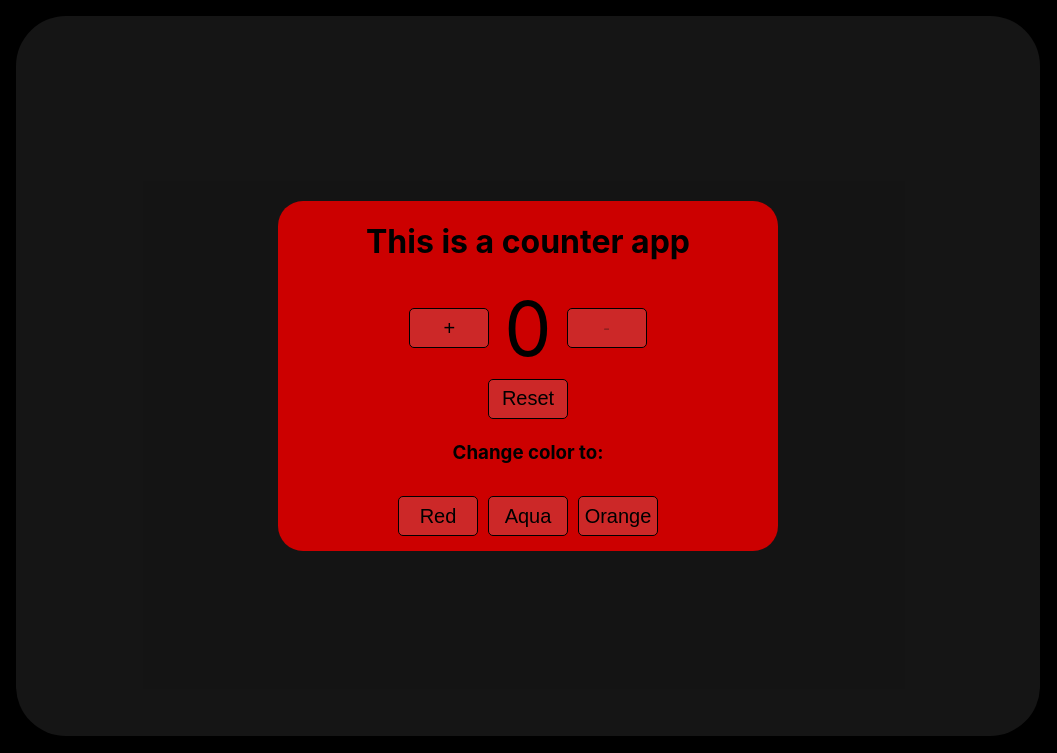
Scenario: Counter testing › render the click event of decrement button and decrement counter value
Step 1. Click the button with id "increment-btn" → (449, 328), box [409,308,489,348]
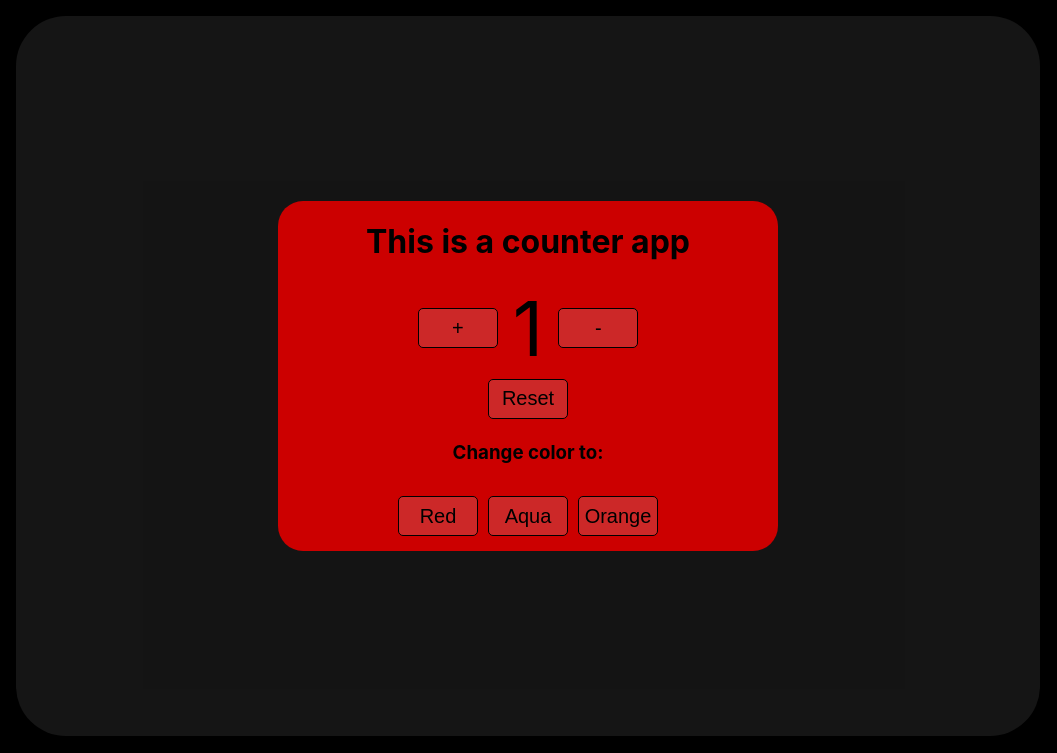
Expected: the text with id "counter-value" reads "1", [513,283,543,374]
Step 2. Click the button with id "decrement-btn" → (598, 328), box [558,308,638,348]
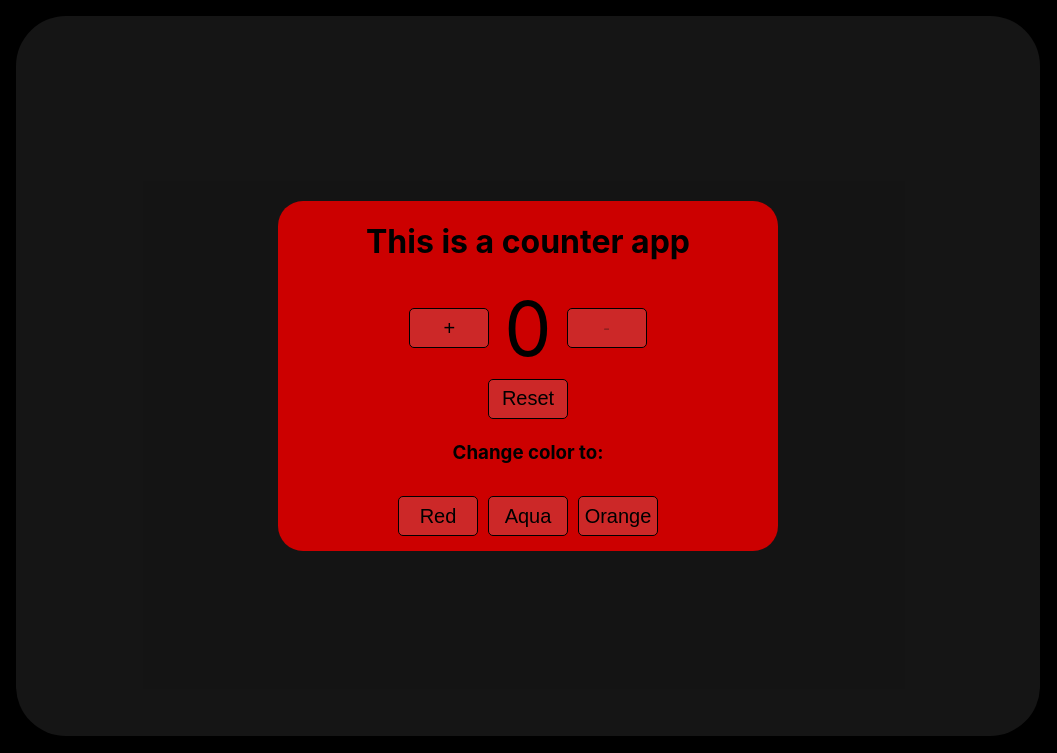
Expected: the text with id "counter-value" reads "0", [504,283,552,374]
